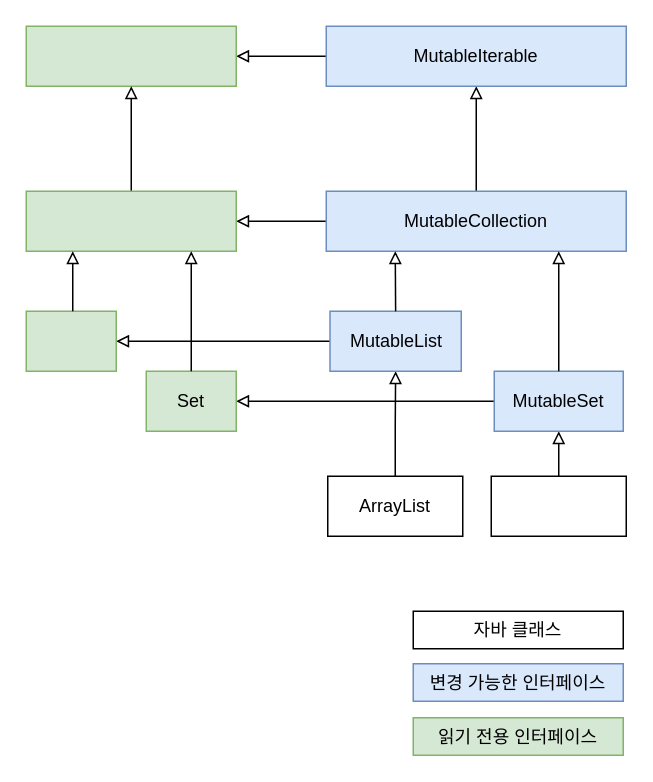
Image size: 653x782. Some labels were removed from this diagram. The centre of each missing label's shape, as x and y in pixels:
Collection: the point at 130,220
HashSet: the point at 558,505
Iterable: the point at 130,55
List: the point at 70,340
